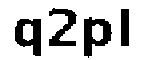2: (46, 7, 79, 52)
l: (116, 7, 137, 53)
p: (83, 14, 114, 60)
q: (9, 16, 45, 60)
